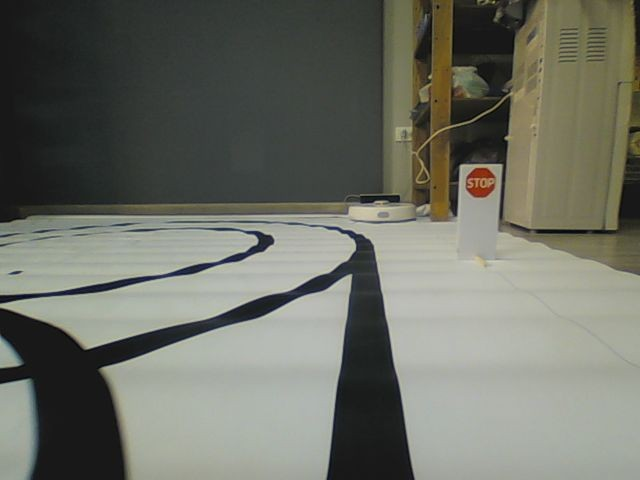Stop: (464, 166, 496, 198)
